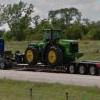Tractor: (15, 19, 85, 73)
